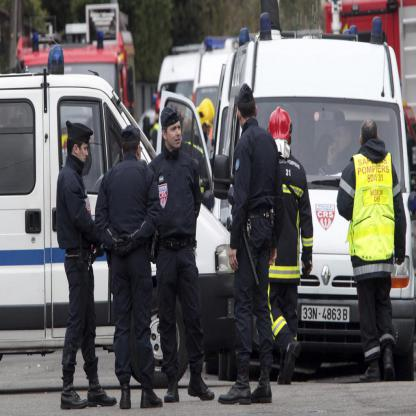face: (167, 119, 182, 149), (196, 115, 211, 137), (78, 140, 89, 166), (336, 127, 347, 152)
